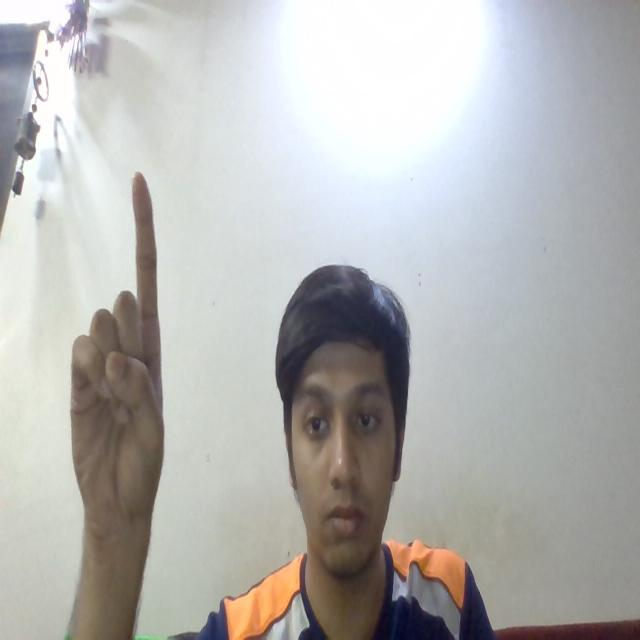Z: (32, 152, 195, 534)
